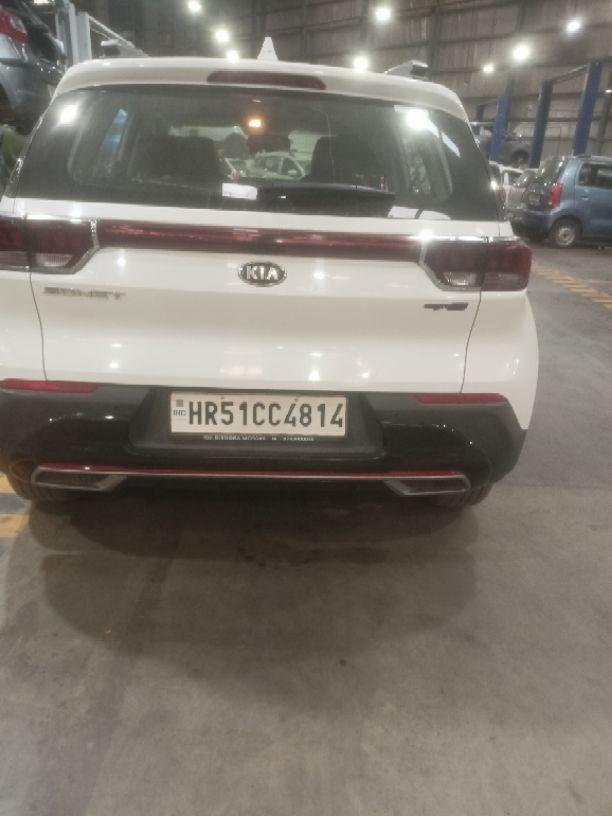license_plate: (166, 389, 348, 439)
